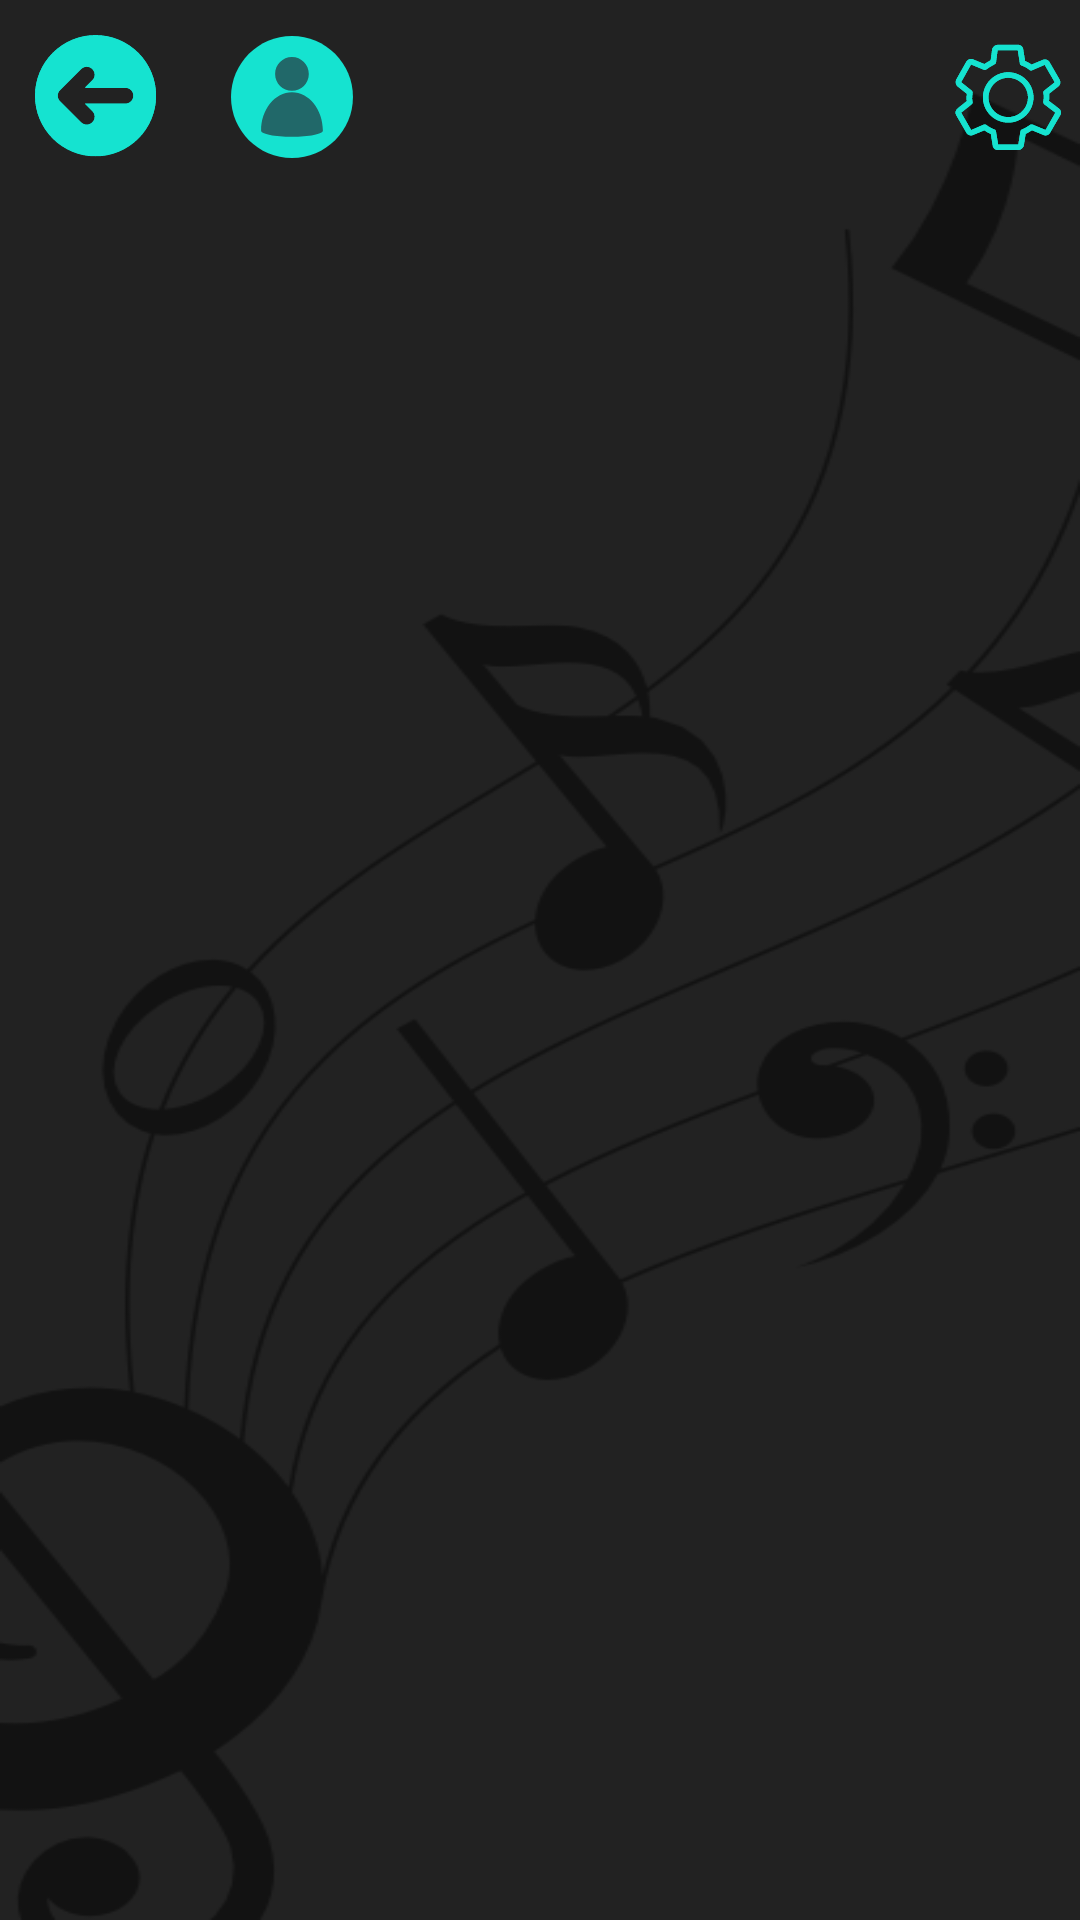

Icon bounding boxes for this 1080px x 1920px phone screenshot, format (x1, y1, x2, y2):
back: (35, 35, 156, 157)
profile: (231, 36, 353, 158)
settings: (955, 44, 1061, 150)
